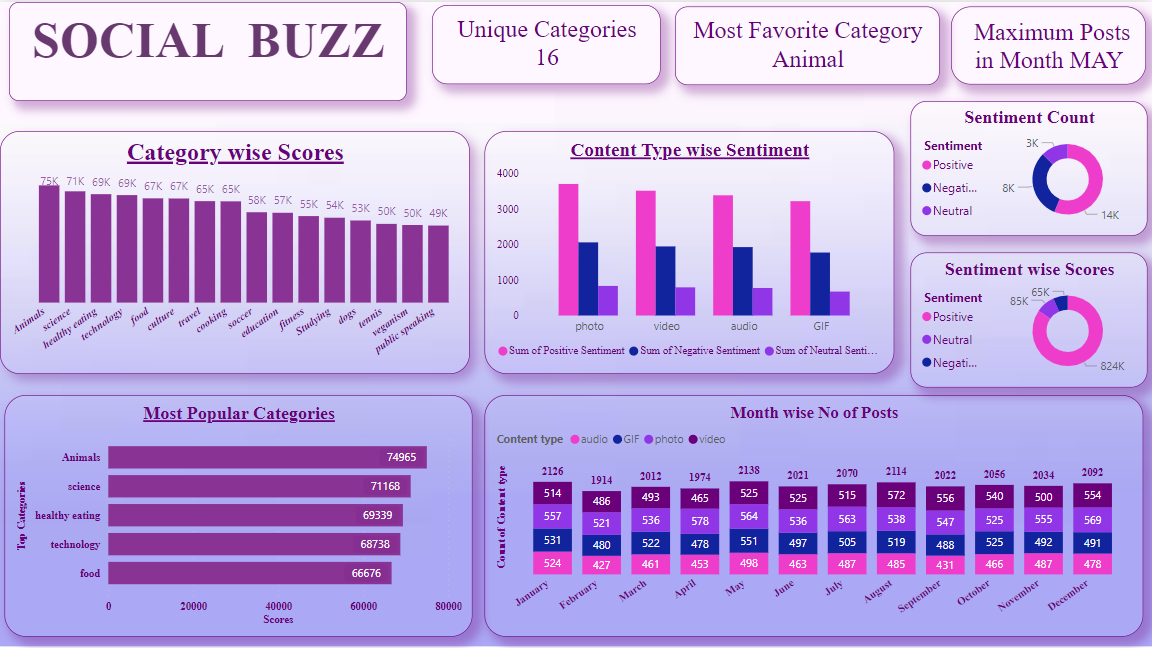

This screenshot's page, from the dashboard's own definition file:
{"tool":"powerbi","page":{"name":"Social Buzz","canvas":[1280,720],"ordinal":0},"visuals":[{"type":"textbox","box":[10,0,441.7,110],"z":0},{"type":"textbox","box":[1056.7,5,216.7,86.7],"z":1000},{"type":"textbox","box":[480,4,254,88],"z":2000},{"type":"textbox","box":[750.2,4.8,294,87.4],"z":3000},{"type":"columnChart","title":"Category wise Scores","fields":{"Category":["visualisation data.Category"],"Y":["Sum(visualisation data.Sum of Scores_1)"]},"box":[0,143.3,521.7,270],"z":4000},{"type":"barChart","title":"Most Popular Categories","fields":{"Category":["visualisation data.Top Categories"],"Y":["Sum(visualisation data.Top Sum of Scores)"]},"box":[5,436.7,520,268.3],"z":5000},{"type":"clusteredColumnChart","title":"Content Type wise Sentiment","fields":{"Category":["visualisation data.content Type (unique)"],"Y":["Sum(visualisation data.Positive Sentiment)","Sum(visualisation data.Negative Sentiment)","Sum(visualisation data.Neutral Sentiment)"]},"box":[538.3,143.3,455,270],"z":6000},{"type":"donutChart","title":"Sentiment Count","fields":{"Y":["Sum(visualisation data.Count of sentiment)"],"Category":["visualisation data.Type of Sentiment"]},"box":[1011.7,110,263.3,150],"z":7000},{"type":"columnChart","title":"Month wise No of Posts","fields":{"Category":["task 2 final.Datetime.Variation.Date Hierarchy.Month"],"Y":["CountNonNull(task 2 final.Content type)"],"Series":["task 2 final.Content type"]},"box":[538.3,436.7,731.7,268.3],"z":8000},{"type":"donutChart","title":"Sentiment wise Scores","fields":{"Category":["visualisation data.Type of Sentiment"],"Y":["Sum(visualisation data.Sum of Scores)"]},"box":[1011.7,278.3,263.3,150],"z":8001}]}

Visuals, with their boxes in screenshot pixels (x1, y1, x2, y2), scaled from the page's 1280x720 canvas onto the 1152x648 screenshot:
textbox: select_region(9, 0, 407, 99)
textbox: select_region(951, 4, 1146, 83)
textbox: select_region(432, 4, 661, 83)
textbox: select_region(675, 4, 940, 83)
"Category wise Scores" columnChart: select_region(0, 129, 470, 372)
"Most Popular Categories" barChart: select_region(4, 393, 472, 634)
"Content Type wise Sentiment" clusteredColumnChart: select_region(484, 129, 894, 372)
"Sentiment Count" donutChart: select_region(911, 99, 1148, 234)
"Month wise No of Posts" columnChart: select_region(484, 393, 1143, 634)
"Sentiment wise Scores" donutChart: select_region(911, 250, 1148, 385)
